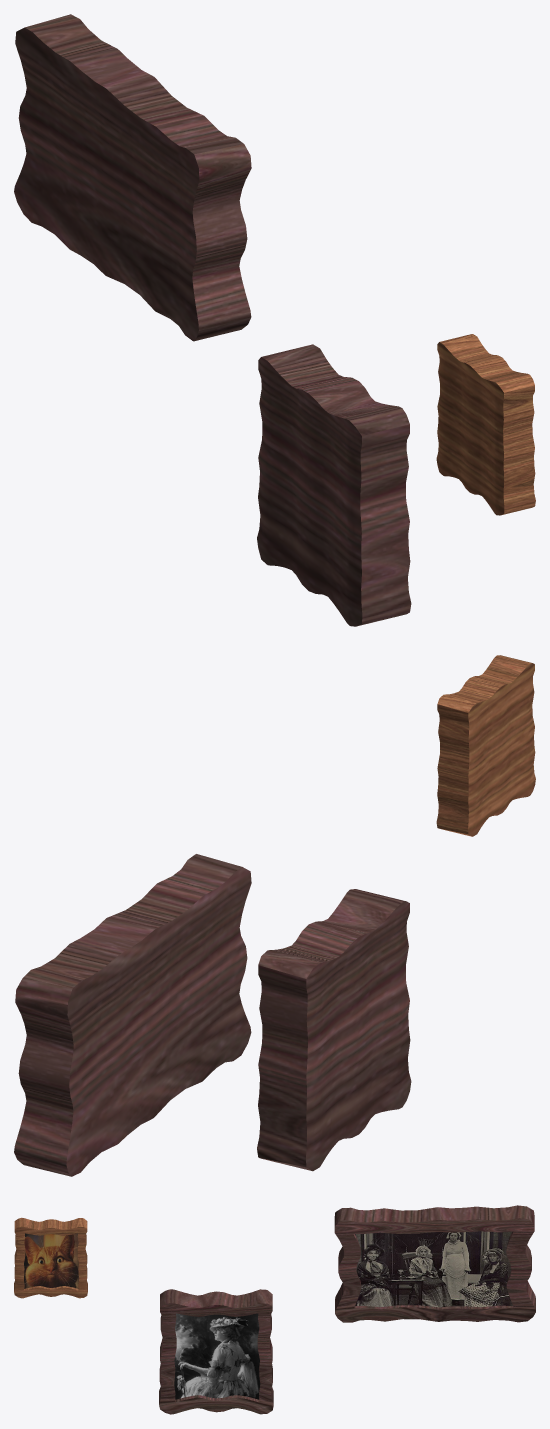
The model's file is picframe2.fbx.
The picture shows the model from 3 angles, top to bottom: view 1: azimuth 30°, elevation 25°; view 2: azimuth 150°, elevation 25°; view 3: azimuth 270°, elevation 25°; orthographic projection. The views are drawn at different scales.
Parts seen in each view (by area): view 1: polySurface1; view 2: polySurface1; view 3: polySurface1.
Part boxes in pixels (x1,y1,x2,y2): polySurface1: (14, 14, 535, 626); polySurface1: (14, 655, 535, 1176); polySurface1: (14, 1205, 535, 1414).
Bounding box in the file's own units: 0.5795 × 3.73 × 9.02.
